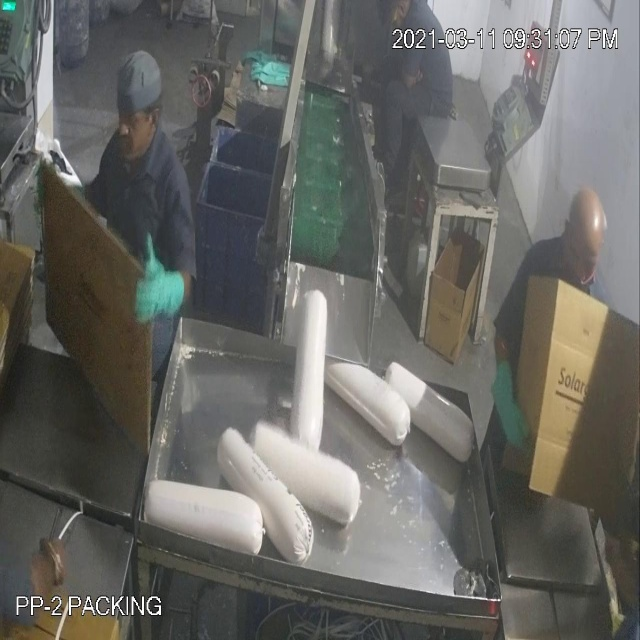Guantes: (126, 233, 189, 332), (490, 348, 533, 460)
